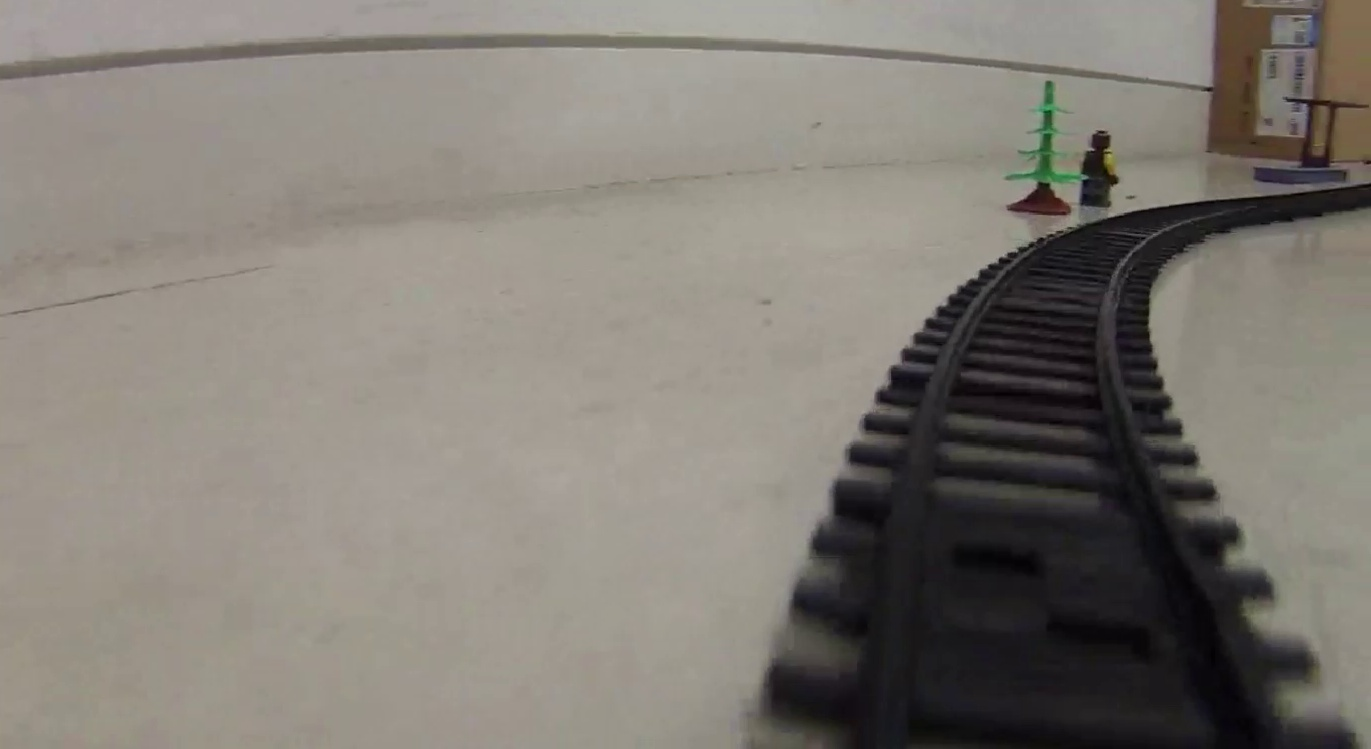people: (1082, 127, 1117, 208)
tree: (1005, 80, 1082, 215)
